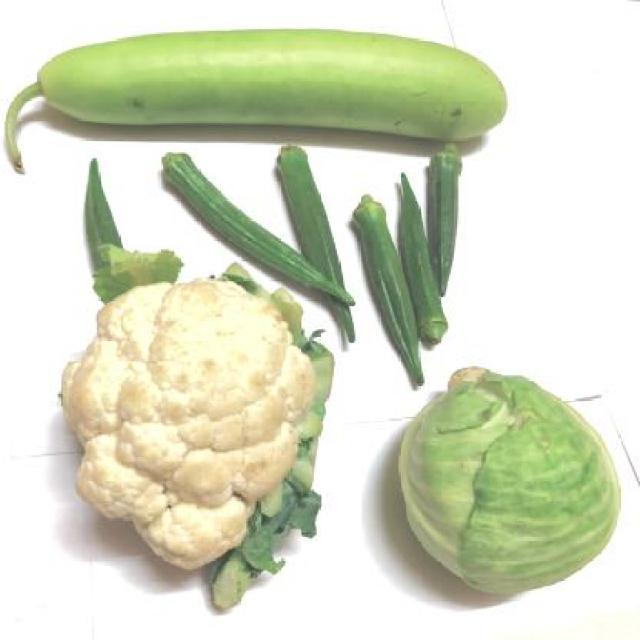Cabbage: (395, 369, 623, 600)
Calabash: (9, 25, 509, 142)
Cauliflower: (56, 282, 338, 610)
Lady finger: (356, 146, 466, 372), (168, 146, 349, 260), (83, 160, 120, 251)
